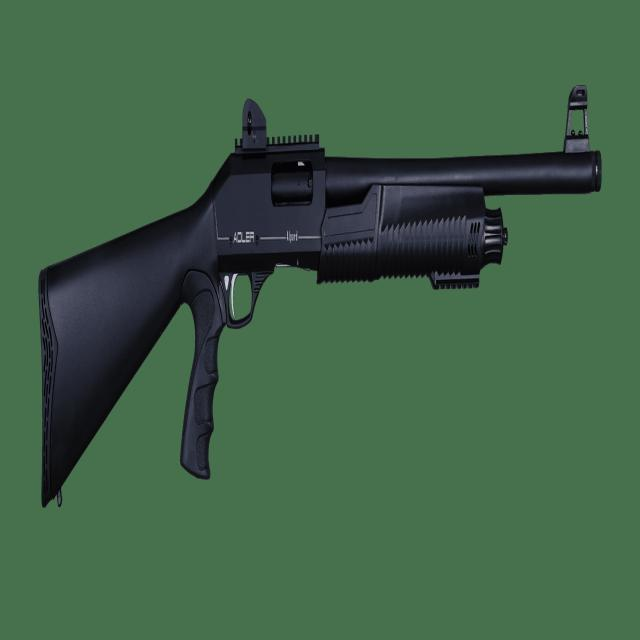ShotGun: (37, 85, 605, 508)
